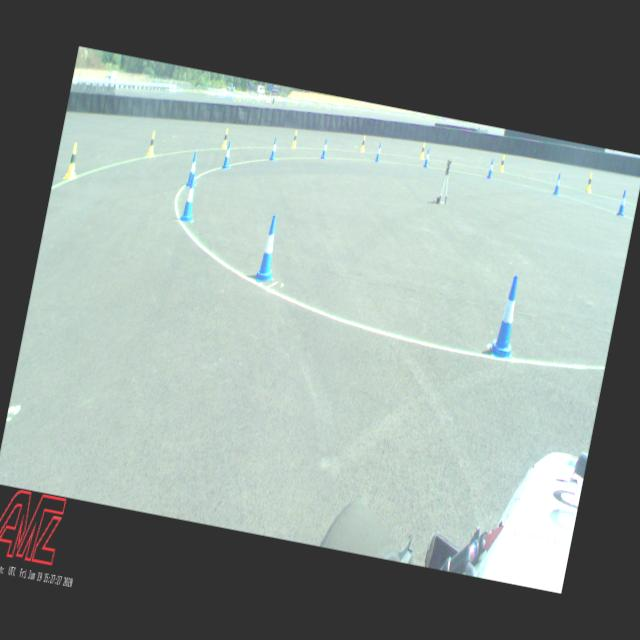blue_cone: (488, 272, 528, 362), (254, 213, 284, 284), (180, 173, 201, 223), (186, 151, 199, 187), (616, 189, 630, 217), (221, 141, 234, 170), (270, 137, 280, 161), (486, 158, 496, 180), (553, 173, 563, 195), (320, 138, 330, 159), (423, 148, 432, 168), (374, 142, 382, 162)
yellow_cone: (64, 141, 82, 181), (146, 132, 158, 158), (585, 172, 594, 194), (222, 128, 230, 150), (292, 129, 300, 149), (419, 142, 427, 160), (498, 155, 506, 173), (360, 135, 367, 153)
